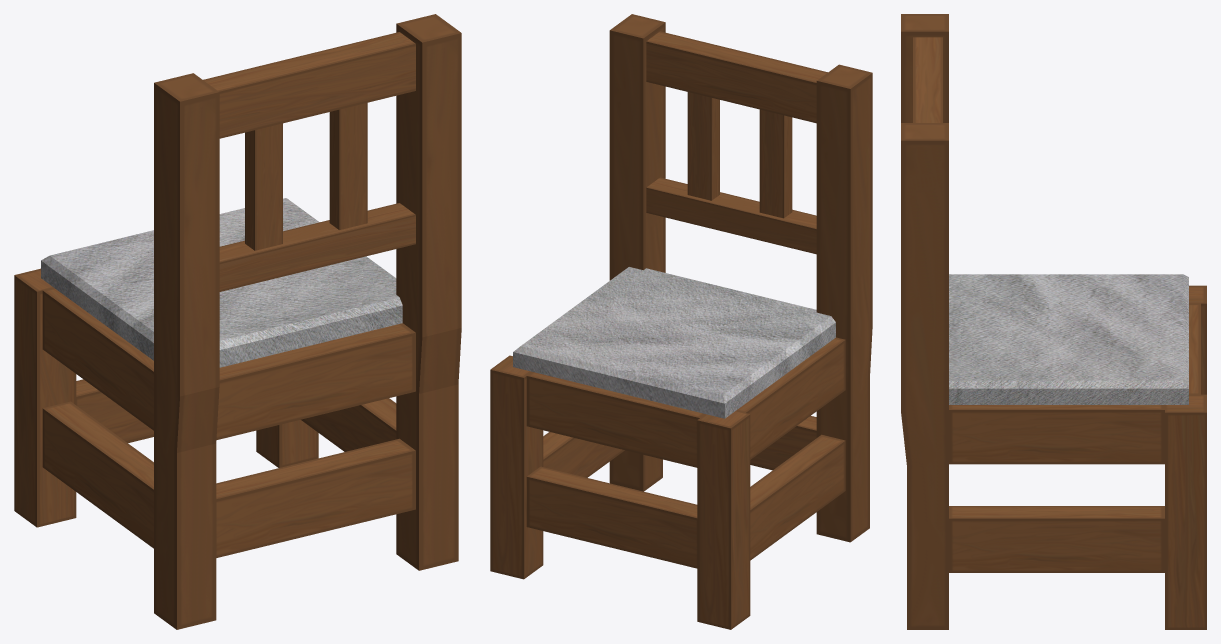
Rendered from Kursi_Makan.fbx.
3 views of the same model, side by side, from view 1: azimuth 30°, elevation 25°; view 2: azimuth 150°, elevation 25°; view 3: azimuth 270°, elevation 25° (orthographic). The views are drawn at different scales.
Visible parts, largest first — view 1: Cube.000; view 2: Cube.000; view 3: Cube.000.
Boxes of the visible parts, left/top/right/bottom form: Cube.000: left=14, top=14, right=461, bottom=629; Cube.000: left=490, top=14, right=872, bottom=629; Cube.000: left=901, top=14, right=1206, bottom=629.
Size of the model in its own units: 50 by 90 by 51.
5 materials, 5 textured.
